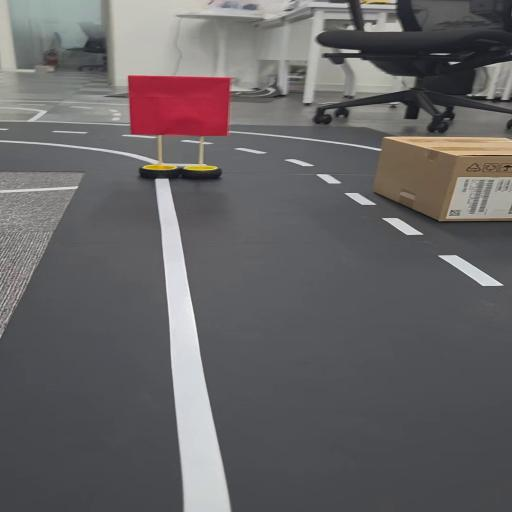Box: (385, 134, 512, 222)
Sign_A: (110, 73, 240, 183)
